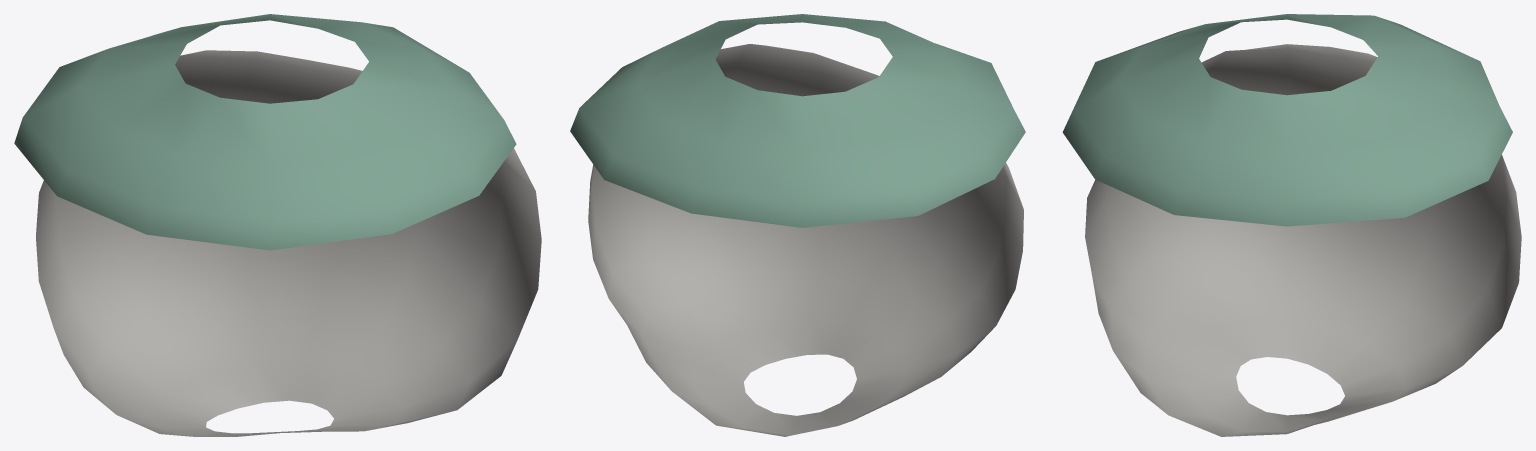
File: SM_Rock_Boulder_Moss.glb
3 views of the same model, side by side, from view 1: azimuth 30°, elevation 25°; view 2: azimuth 150°, elevation 25°; view 3: azimuth 270°, elevation 25° (orthographic). The views are drawn at different scales.
Visible parts, largest first — view 1: SM_Rock_Boulder_Moss; view 2: SM_Rock_Boulder_Moss; view 3: SM_Rock_Boulder_Moss.
Boxes of the visible parts, bbox=[...] form: SM_Rock_Boulder_Moss: bbox=[14, 14, 541, 436]; SM_Rock_Boulder_Moss: bbox=[570, 14, 1025, 436]; SM_Rock_Boulder_Moss: bbox=[1062, 14, 1521, 436].
Bounding box in the file's own units: 1.44 × 1.17 × 1.4.
